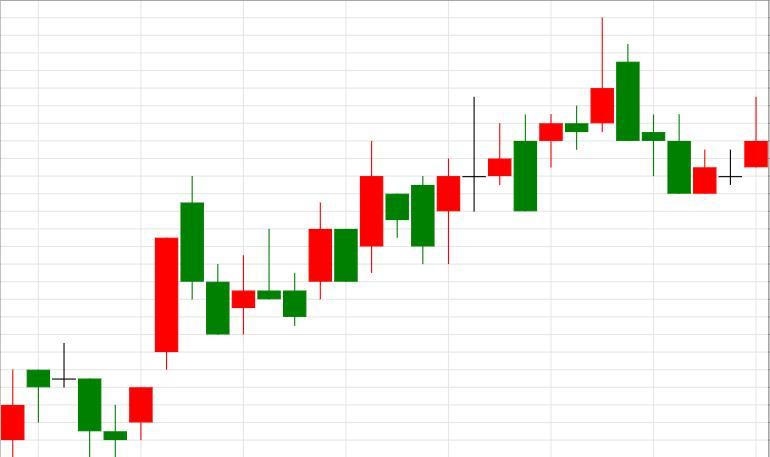morning_star_rise: (26, 342, 152, 457)
shooting_star_fall: (437, 17, 614, 265)
